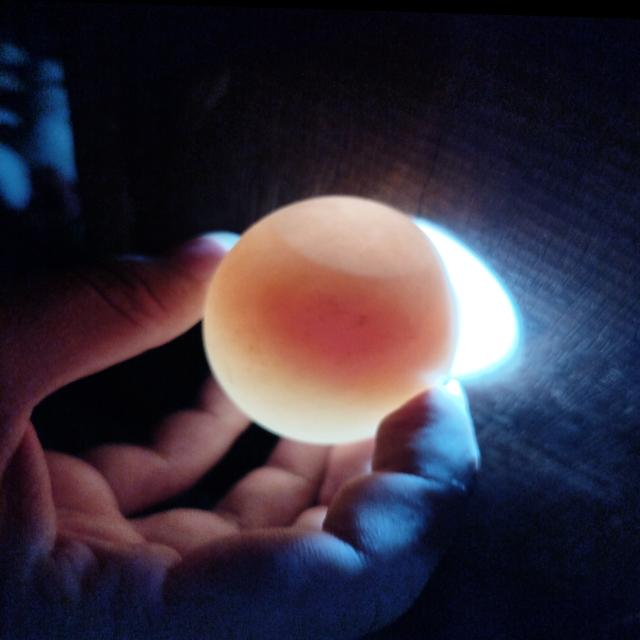Camara de Ar: (261, 193, 437, 276)
Gema Quebrada: (265, 275, 422, 369)
